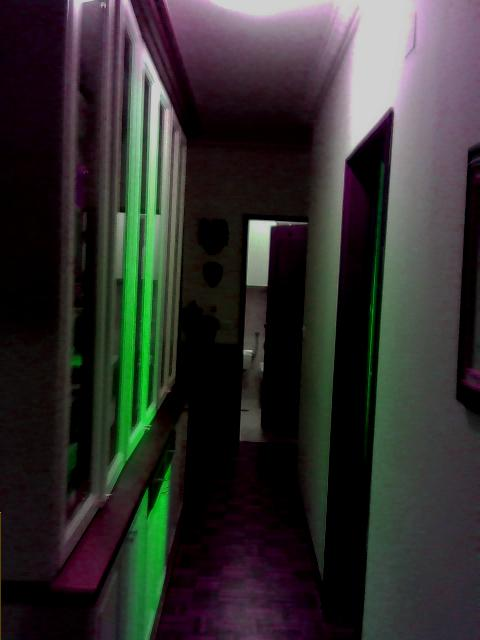semi_door: (234, 212, 310, 448)
